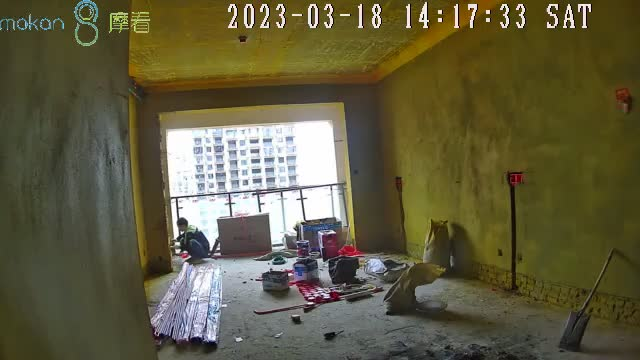people: (175, 217, 211, 262)
window: (166, 121, 344, 249)
